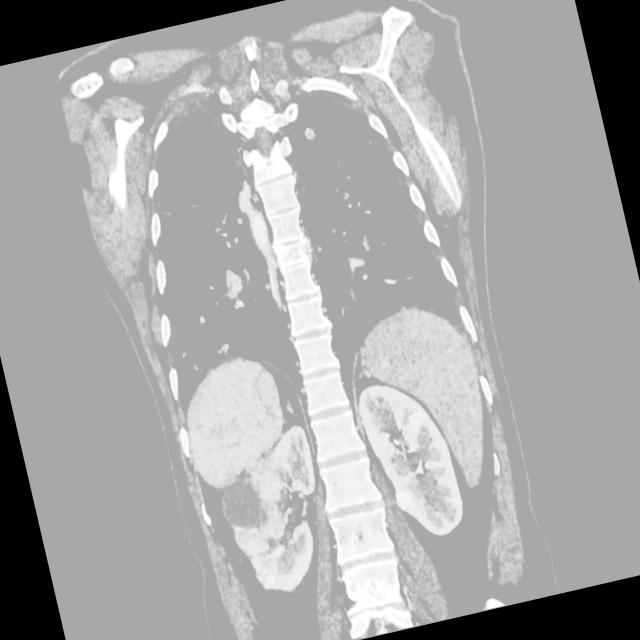TUMOR: (93, 210, 540, 540)
